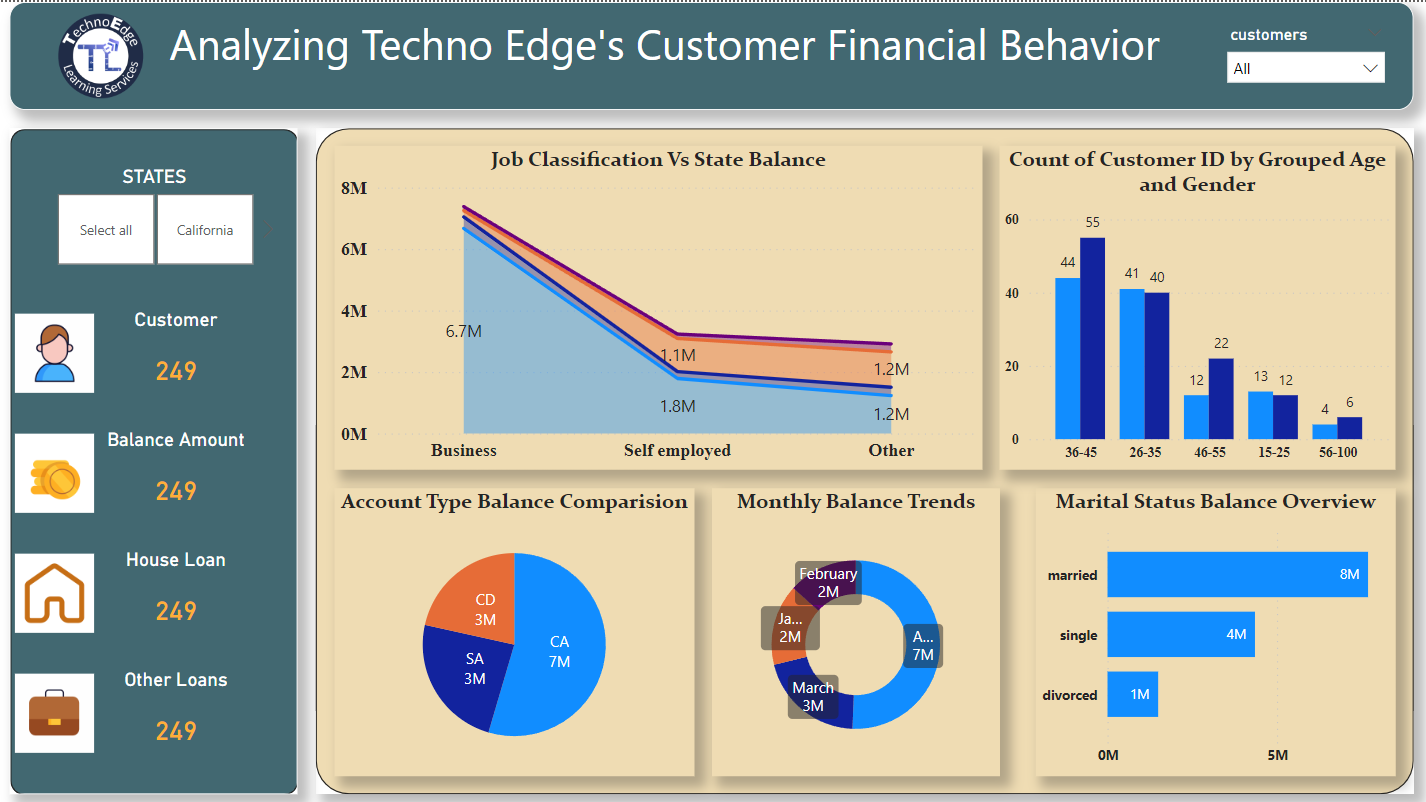

The page's visual inventory and layout, read from the dashboard file:
{"tool":"powerbi","page":{"name":"Page 1","canvas":[1280,720],"ordinal":0},"visuals":[{"type":"shape","box":[16,112,256,592],"z":1000},{"type":"textbox","box":[16,0,1248,96],"z":2000},{"type":"slicer","fields":{"Values":["customer bank deatails.name"]},"box":[1088,16,160,64],"z":3000},{"type":"slicer","title":"STATES","fields":{"Values":["customer bank deatails.State"]},"box":[32,144,224,96],"z":4000},{"type":"shape","box":[288,112,976,592],"z":5000},{"type":"card","title":"Customer","fields":{"Values":["customer bank deatails.Customer ID"]},"box":[80,272,167,85],"z":6000},{"type":"card","title":"Balance Amount","fields":{"Values":["customer bank deatails.Customer ID"]},"box":[80,378.7,167,85],"z":7000},{"type":"card","title":"House Loan","fields":{"Values":["customer bank deatails.Customer ID"]},"box":[80,485.3,167,85],"z":8000},{"type":"card","title":"Other Loans","fields":{"Values":["customer bank deatails.Customer ID"]},"box":[80,592,167,85],"z":9000},{"type":"image","box":[16,485.3,80,80],"z":10000},{"type":"image","box":[16,272,80,80],"z":11000},{"type":"image","box":[16,592,80,80],"z":12000},{"type":"image","box":[16,378.7,80,80],"z":13000},{"type":"stackedAreaChart","title":"Job Classification Vs State Balance","fields":{"Category":["customer bank deatails.Job Classification"],"Y":["customer bank deatails.Balance"],"Series":["customer bank deatails.State"]},"box":[304,128,576,288],"z":14000},{"type":"pieChart","title":"Account Type Balance Comparision","fields":{"Category":["customer bank deatails.Account Type "],"Y":["customer bank deatails.Balance"]},"box":[304,432,320,256],"z":15000},{"type":"donutChart","title":"Monthly Balance Trends","fields":{"Category":["customer bank deatails.month"],"Y":["customer bank deatails.Balance"]},"box":[640,432,256,256],"z":16000},{"type":"barChart","title":"Marital Status Balance Overview","fields":{"Y":["customer bank deatails.Balance"],"Category":["customer bank deatails.Marital Status "]},"box":[928,432,320,256],"z":17000},{"type":"clusteredColumnChart","fields":{"Category":["customer bank deatails.Grouped Age "],"Y":["customer bank deatails.Customer ID"],"Series":["customer bank deatails.Gender"]},"box":[896,128,352,288],"z":18000},{"type":"image","box":[16,0,160,96],"z":18001}]}

Visuals, with their boxes in screenshot pixels (x1, y1, x2, y2), scaled from the page's 1280x720 canvas onto the 1426x802 screenshot:
shape: l=18, t=125, r=303, b=784
textbox: l=18, t=0, r=1408, b=107
slicer - customer bank deatails.name: l=1212, t=18, r=1390, b=89
"STATES" slicer: l=36, t=160, r=285, b=267
shape: l=321, t=125, r=1408, b=784
"Customer" card: l=89, t=303, r=275, b=398
"Balance Amount" card: l=89, t=422, r=275, b=517
"House Loan" card: l=89, t=541, r=275, b=635
"Other Loans" card: l=89, t=659, r=275, b=754
image: l=18, t=541, r=107, b=630
image: l=18, t=303, r=107, b=392
image: l=18, t=659, r=107, b=749
image: l=18, t=422, r=107, b=511
"Job Classification Vs State Balance" stackedAreaChart: l=339, t=143, r=980, b=463
"Account Type Balance Comparision" pieChart: l=339, t=481, r=695, b=766
"Monthly Balance Trends" donutChart: l=713, t=481, r=998, b=766
"Marital Status Balance Overview" barChart: l=1034, t=481, r=1390, b=766
clusteredColumnChart - customer bank deatails.Grouped Age  x customer bank deatails.Customer ID: l=998, t=143, r=1390, b=463
image: l=18, t=0, r=196, b=107
